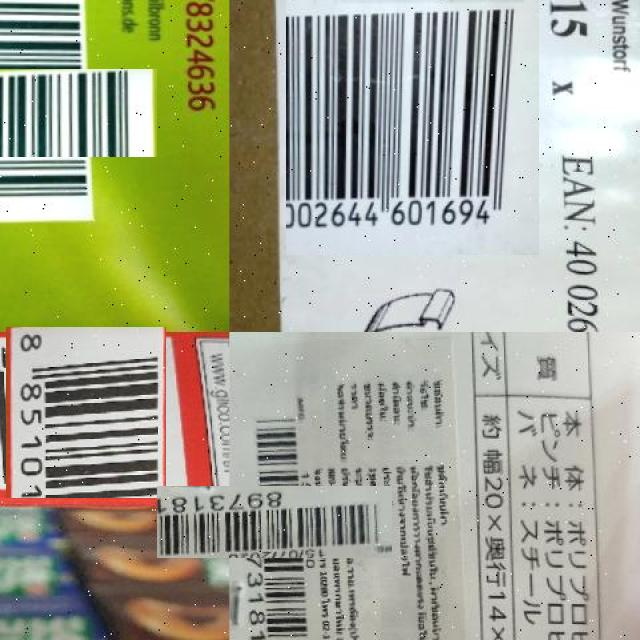Barcode: (285, 0, 540, 254), (3, 329, 169, 495), (198, 445, 352, 599), (0, 34, 123, 191)
